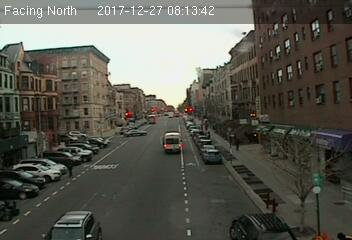car: (202, 149, 223, 164)
truck: (162, 132, 182, 154)
